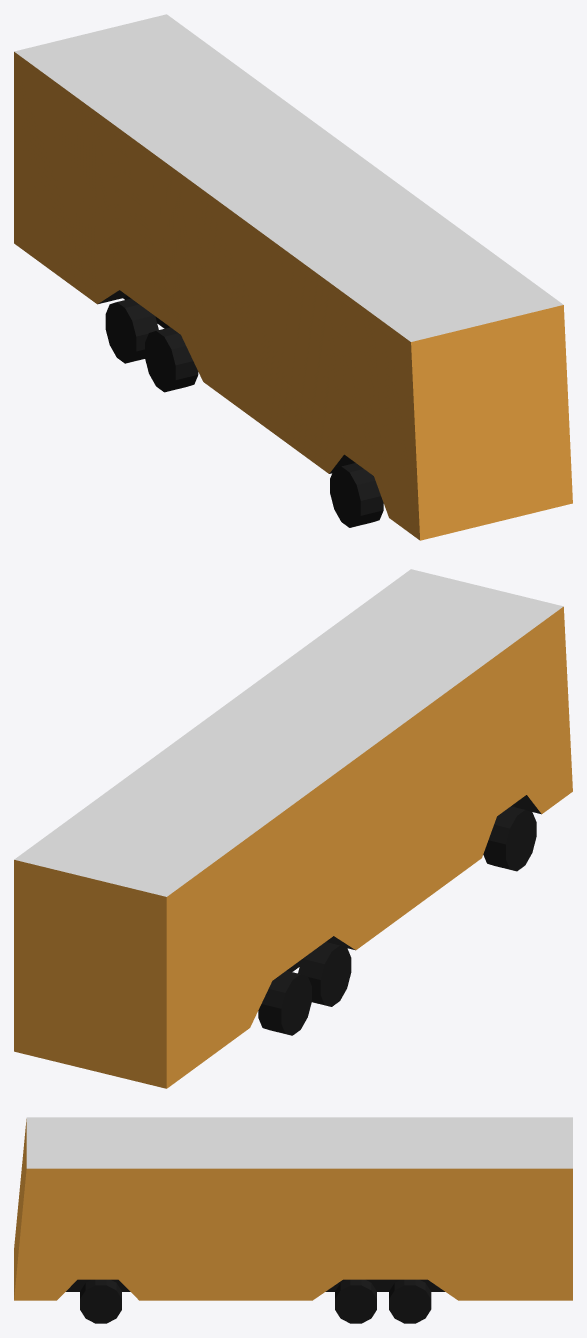
File: busAK.fbx
3 renders of one model, top to bottom at view 1: azimuth 30°, elevation 25°; view 2: azimuth 150°, elevation 25°; view 3: azimuth 270°, elevation 25°, orthographic. The views are drawn at different scales.
Visible parts, largest first — view 1: Cube; view 2: Cube; view 3: Cube.
Boxes of the visible parts, <box> form: Cube: <box>14,14,572,540</box>; Cube: <box>14,569,572,1088</box>; Cube: <box>14,1117,572,1323</box>.
Bounding box in the file's own units: 230 × 275 × 921.
